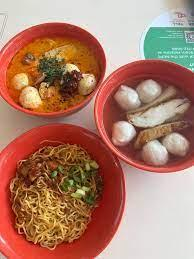Braised Crucian Carp: (0, 121, 125, 256), (92, 58, 193, 172), (0, 21, 105, 118)
